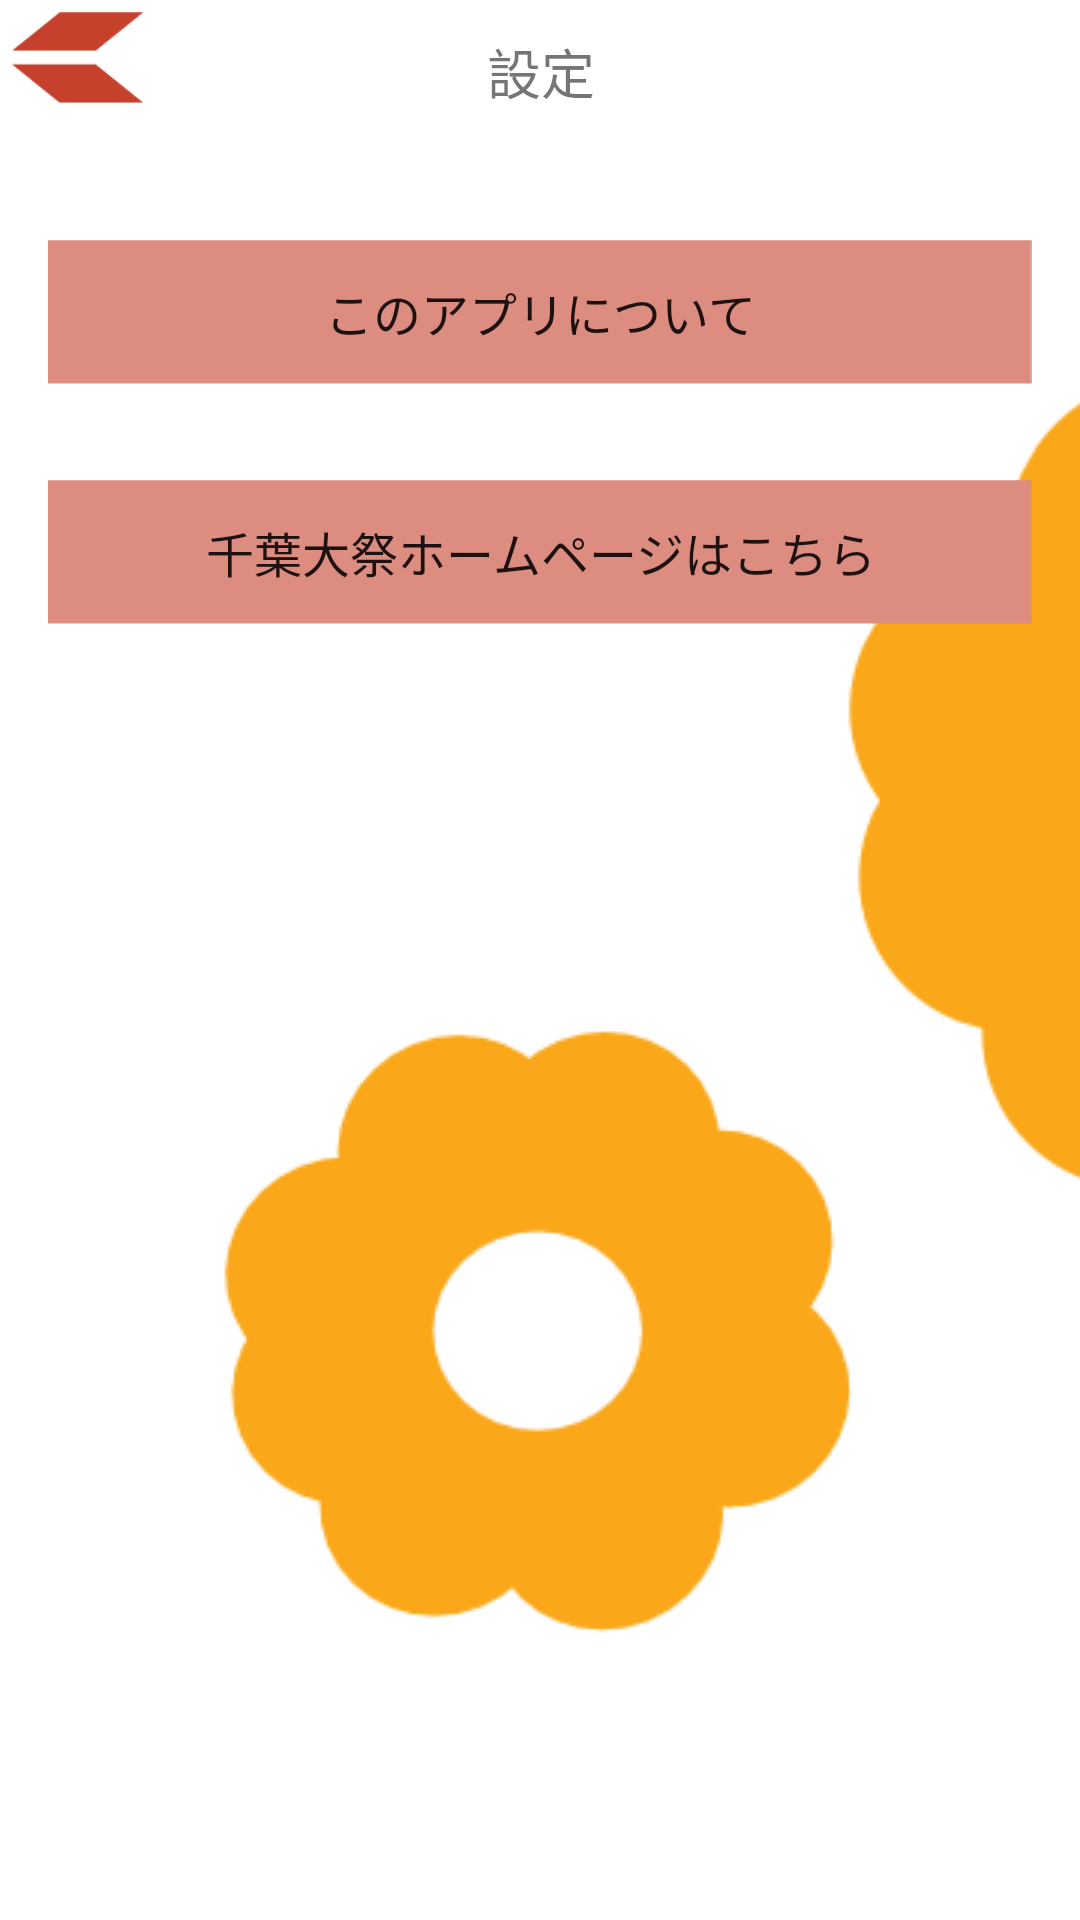

Icons on this 1080px×1920px Android screen, each with its box as box(x1, y1, x2, y2):
back: box(12, 12, 143, 103)
